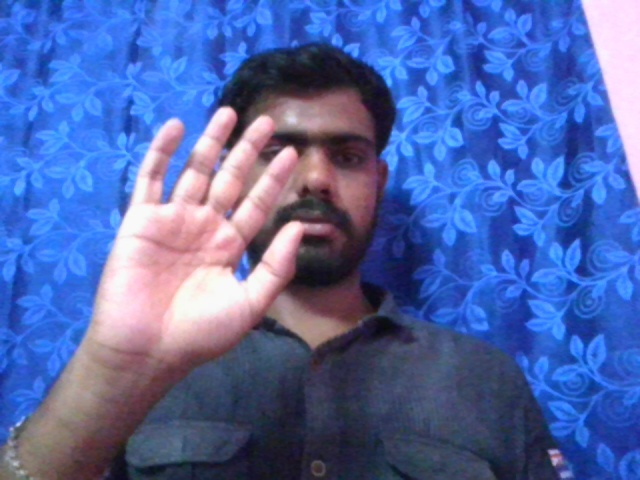Hello: (87, 106, 307, 384)
